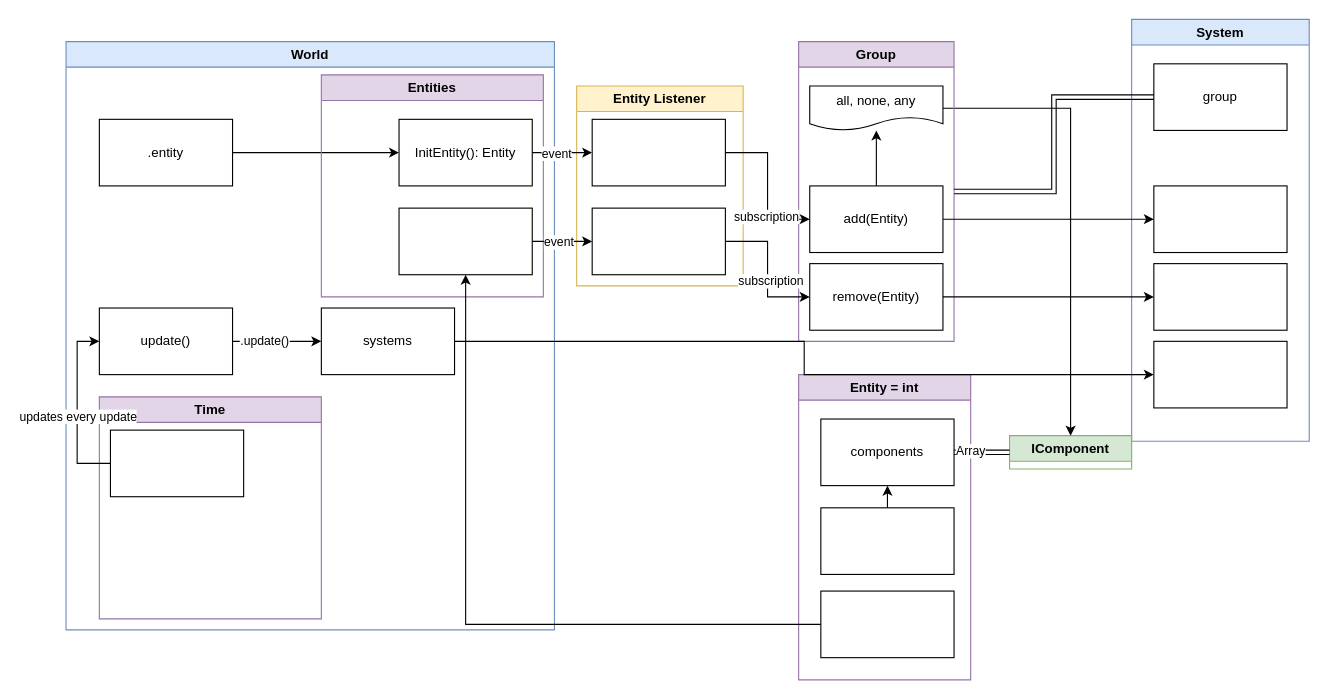
The diagram is 1329 pixels wide and 699 high, and some of its shapes have lost their labels. Each missing label, with the centre of its shape:
delta: pixel 176 463
destroy(): pixel 887 624
DestroyEntity(): pixel 465 241
getComponent<T>(): pixel 887 540
OnDestroy(): pixel 658 241
onDestroy(Entity): pixel 1220 296
OnInit(): pixel 658 152
onInit(Entity): pixel 1220 219
onUpdate(Entity): pixel 1220 374
